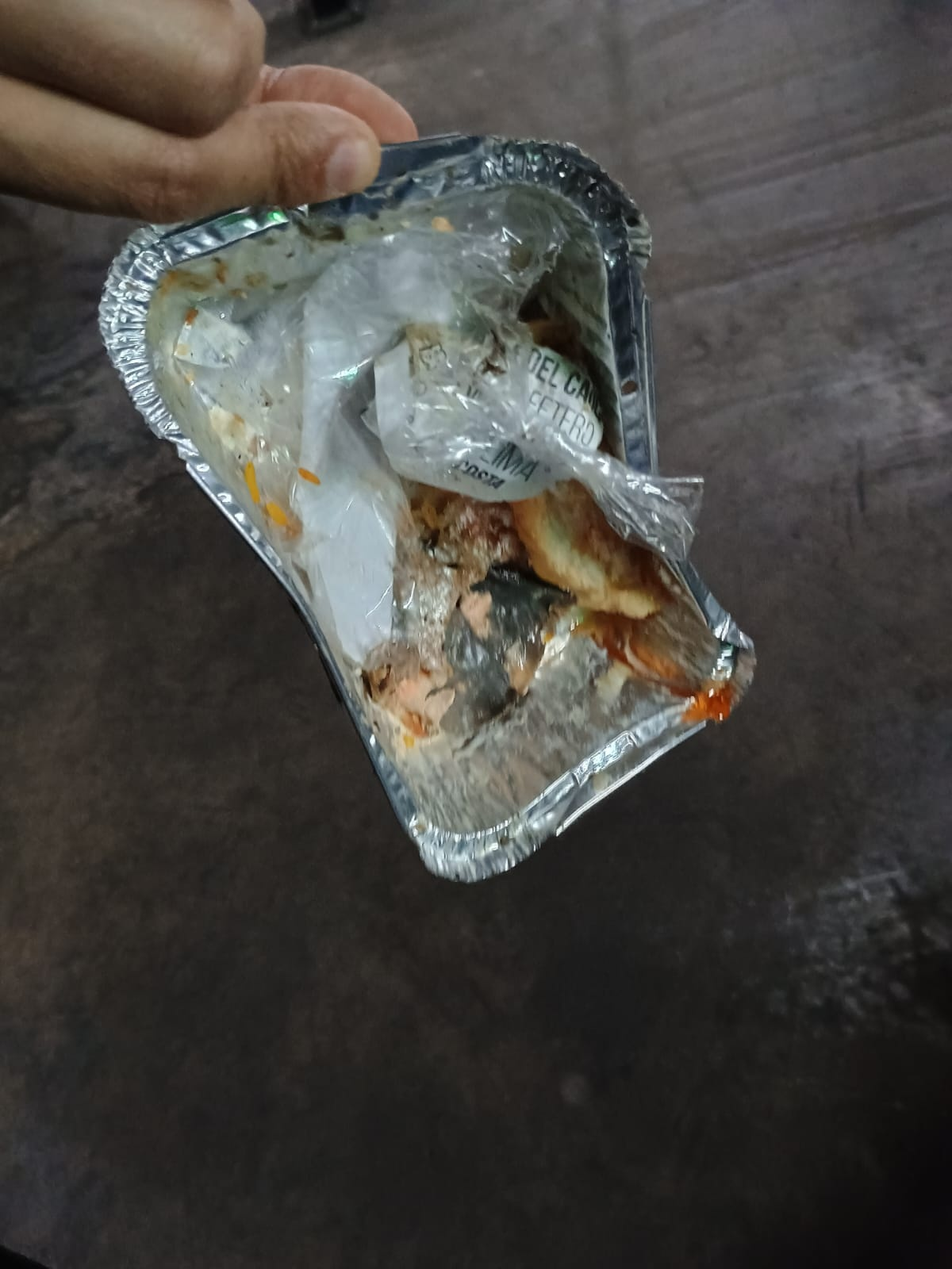Ordinario: (99, 136, 756, 883)
